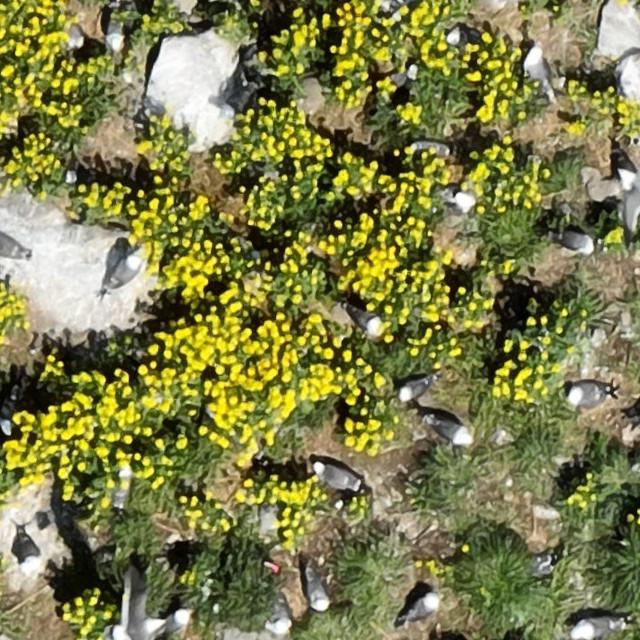F: (115, 575, 161, 640), (618, 157, 640, 232)
umineko: (8, 522, 48, 582), (220, 79, 262, 116), (315, 465, 359, 490), (105, 5, 127, 55), (428, 416, 469, 442), (0, 230, 36, 258), (111, 256, 143, 286), (346, 304, 381, 331), (304, 572, 328, 610), (574, 616, 617, 637), (522, 47, 546, 84), (407, 592, 438, 619), (558, 231, 595, 253), (568, 386, 607, 406), (158, 610, 188, 635), (399, 377, 430, 400), (114, 468, 130, 507), (457, 190, 482, 212), (447, 28, 470, 46), (0, 397, 10, 435)
